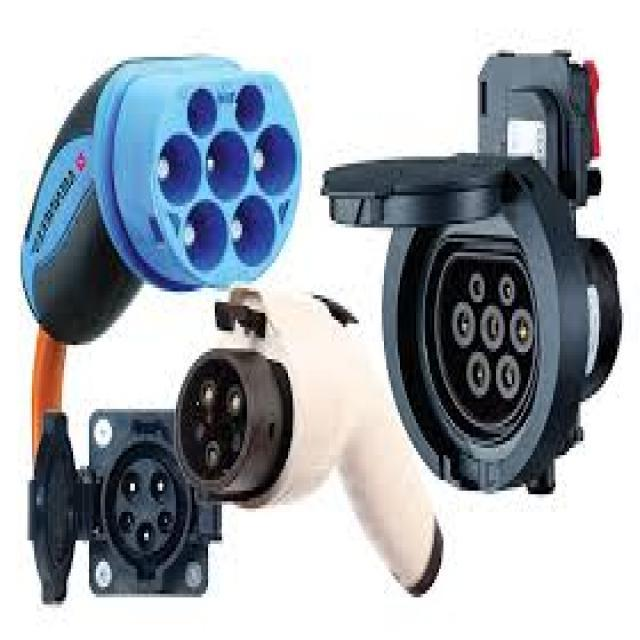Type 2: (112, 53, 320, 294), (401, 236, 577, 458)
